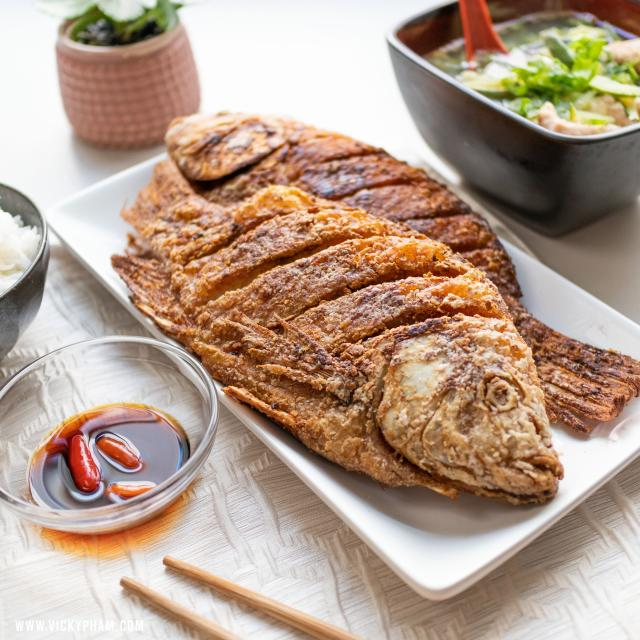Peixe: (111, 110, 637, 506), (374, 313, 564, 506)
